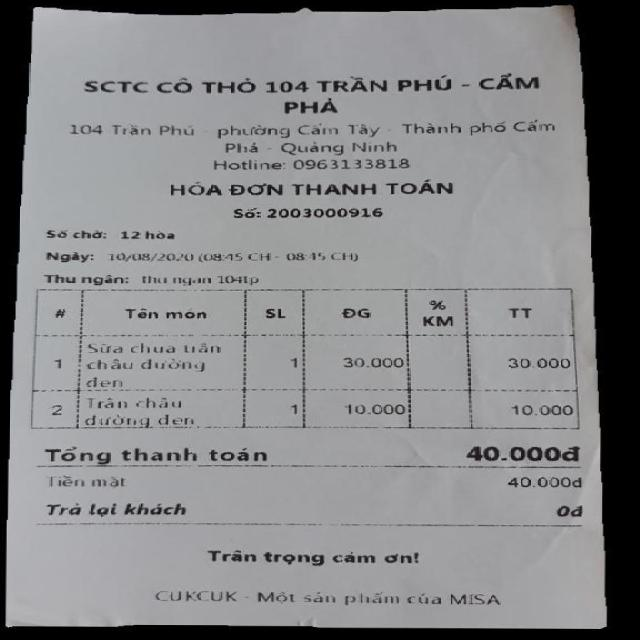Date: (104, 249, 198, 263)
Store_Name: (77, 67, 562, 116)
amount_number: (462, 439, 562, 464)
label_total: (42, 442, 272, 464)
